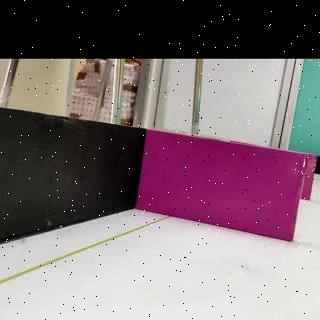xparking: (135, 129, 309, 244), (302, 156, 317, 200)
